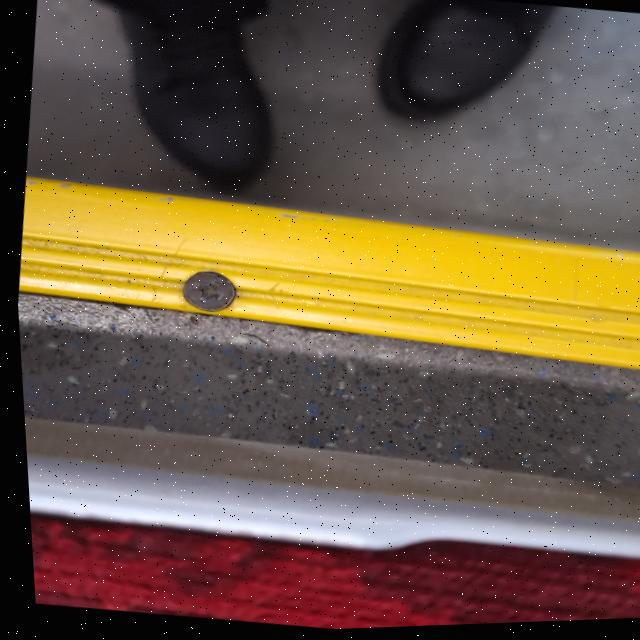Pozidriv: (168, 265, 239, 316)
